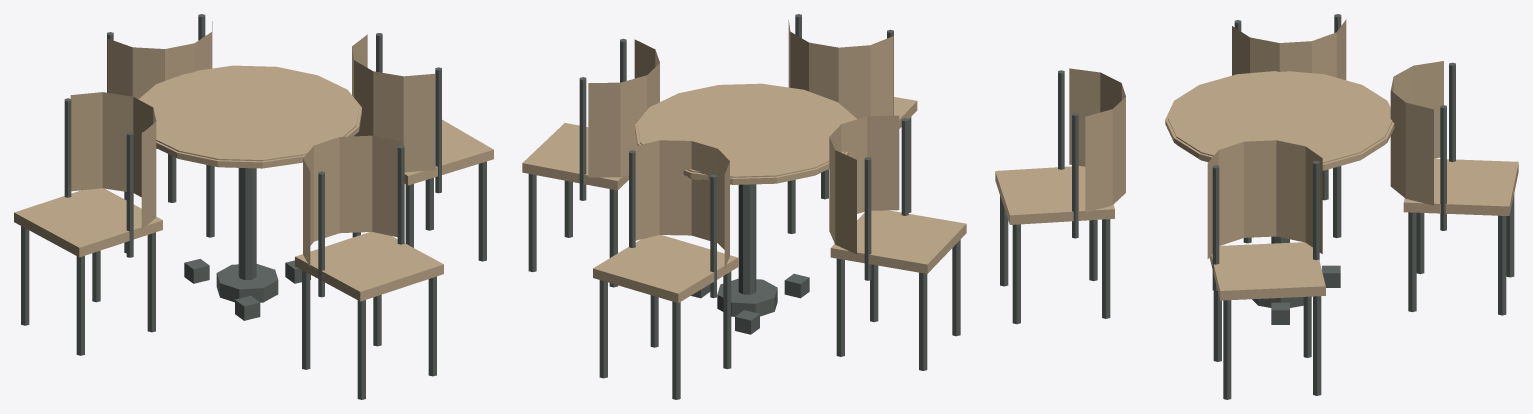
Rendered from cafe_terrace_set.glb.
The picture shows the model from 3 angles, left to right: view 1: azimuth 30°, elevation 25°; view 2: azimuth 150°, elevation 25°; view 3: azimuth 270°, elevation 25°; orthographic projection.
Parts seen in each view (by area): view 1: cafe_terrace_set; view 2: cafe_terrace_set; view 3: cafe_terrace_set.
Boxes of the visible parts, <box> form: cafe_terrace_set: <box>14,14,493,399</box>; cafe_terrace_set: <box>522,14,966,399</box>; cafe_terrace_set: <box>995,14,1518,399</box>.
Bounding box in the file's own units: 1.85 × 0.86 × 1.97.
